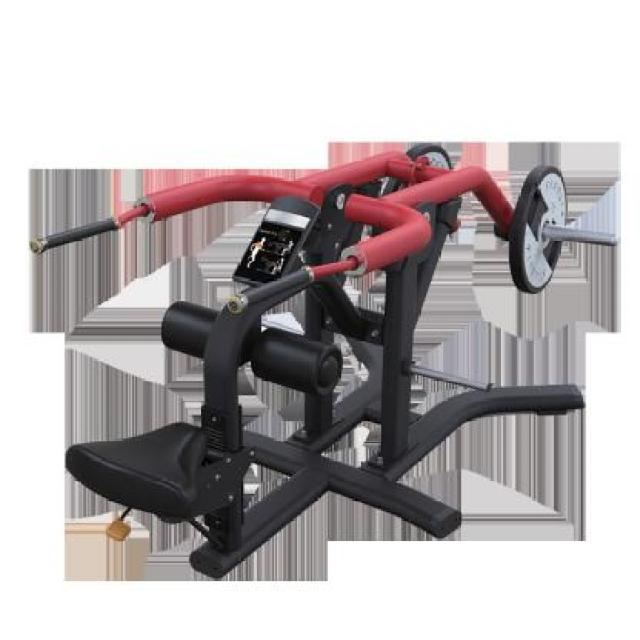seated dip machine: (28, 143, 622, 583)
